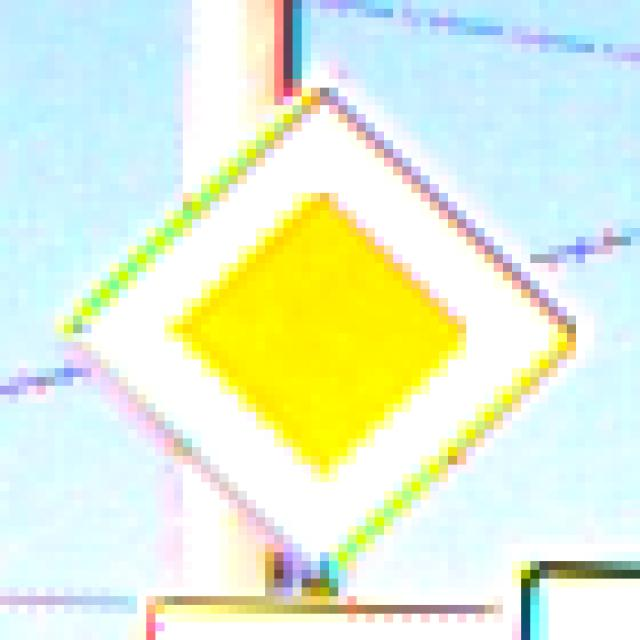Main Road: (56, 63, 586, 589)
